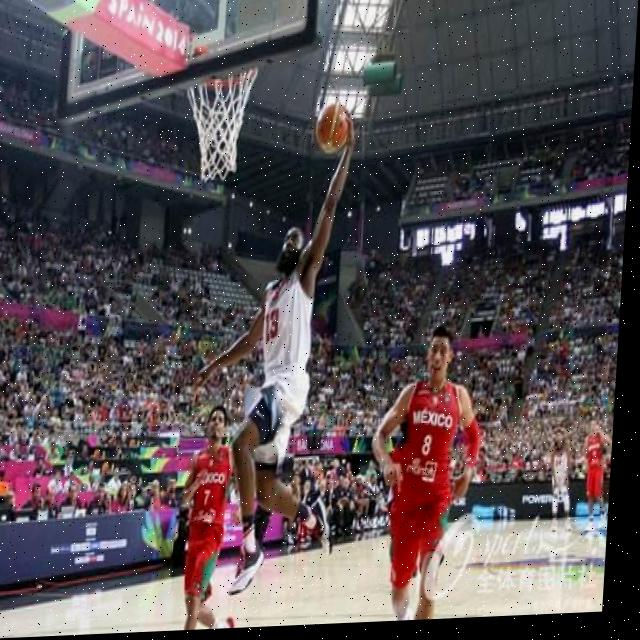basketball: (313, 100, 354, 158)
hoop: (181, 65, 259, 180)
